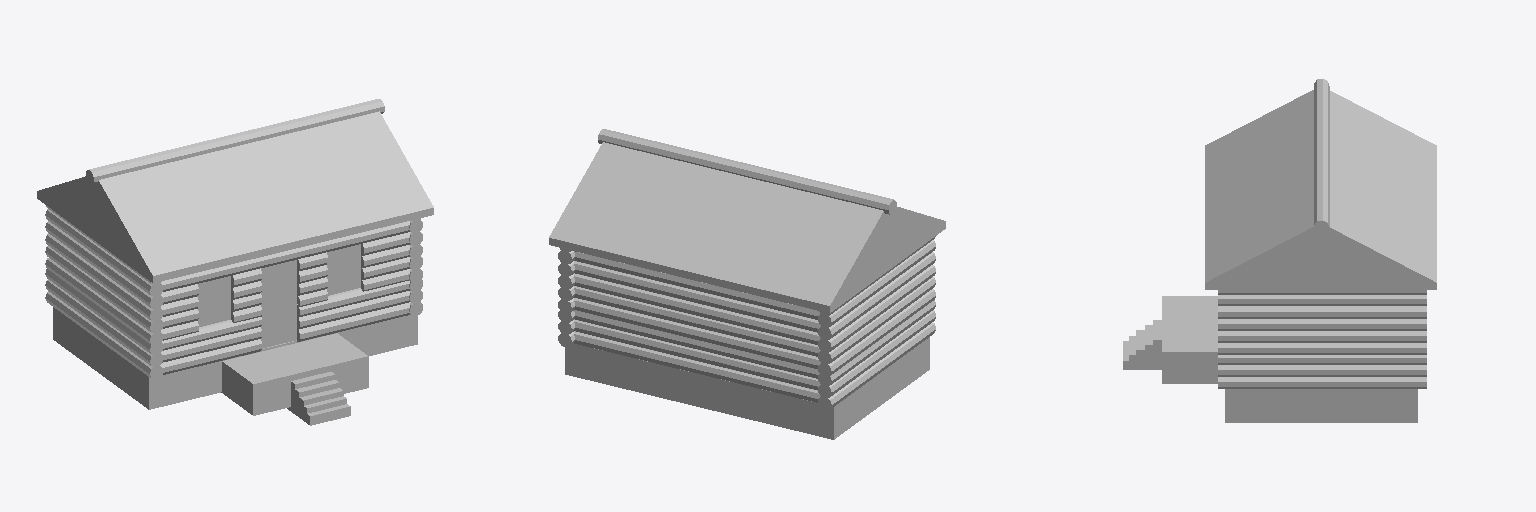
Rendered from cabin.obj.
The picture shows the model from 3 angles: view 1: azimuth 30°, elevation 25°; view 2: azimuth 150°, elevation 25°; view 3: azimuth 270°, elevation 25°; orthographic projection.
Parts seen in each view (by area): view 1: cabin_Cylinder.002; view 2: cabin_Cylinder.002; view 3: cabin_Cylinder.002.
Boxes of the visible parts, <box> form: cabin_Cylinder.002: <box>37,99,433,425</box>; cabin_Cylinder.002: <box>549,129,945,439</box>; cabin_Cylinder.002: <box>1123,79,1436,422</box>.
Size of the model in its own units: 7.41 by 5.18 by 6.94.